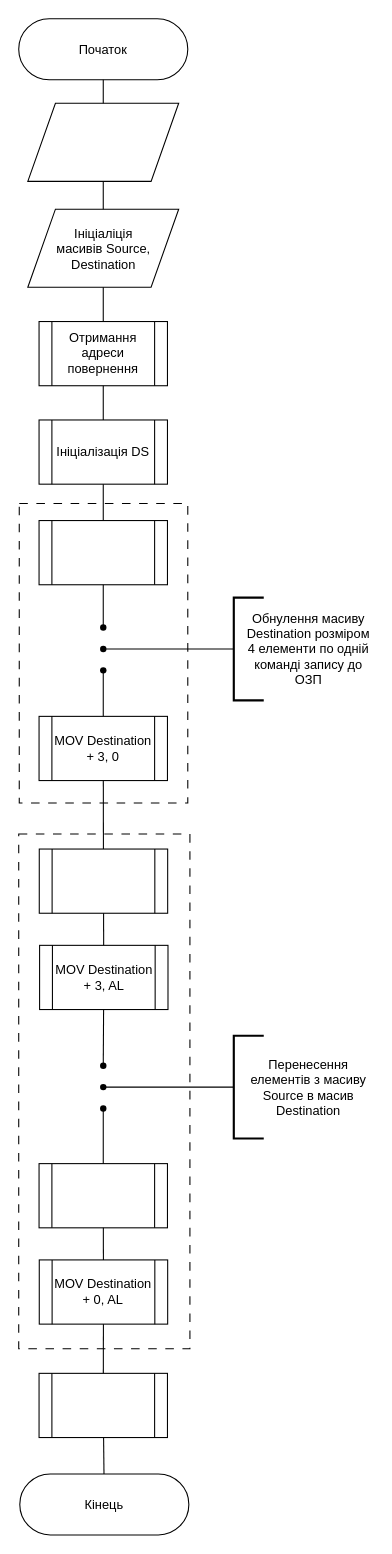
Some shapes in this 392 by 1554 pixel diagram are drawn without their labels. The centre of each missing label's shape, as x and y in pixels:
"MOV AL, Source + 0" goes at point 103,880.
"MOV AL, Source + 3" goes at point 102,1195.
"MOV Destination + 0, 0" goes at point 102,552.
"Ret" goes at point 102,1405.
"Виділення пам'яті під стек" goes at point 103,141.
